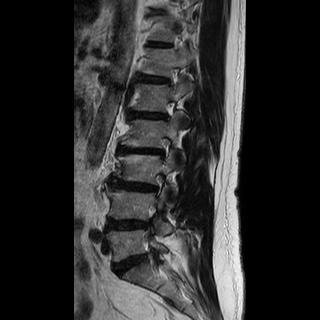LFS0: (145, 169, 172, 201), (151, 131, 176, 164), (157, 95, 182, 128)
